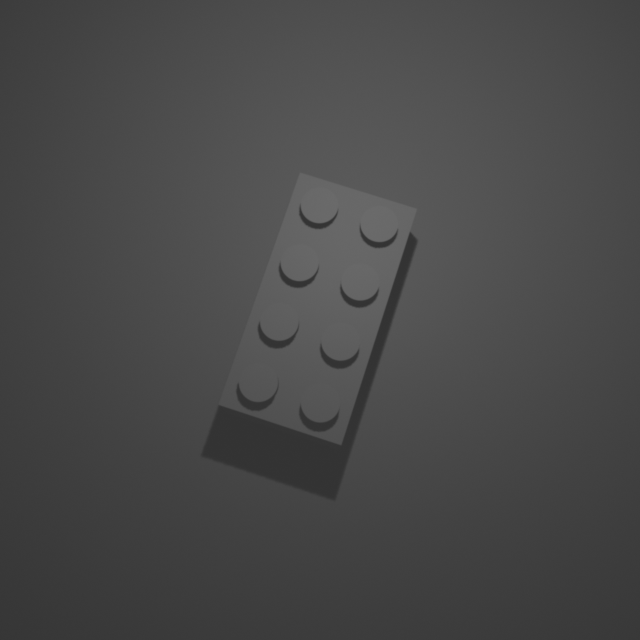lego_2x4: (217, 168, 418, 450)
